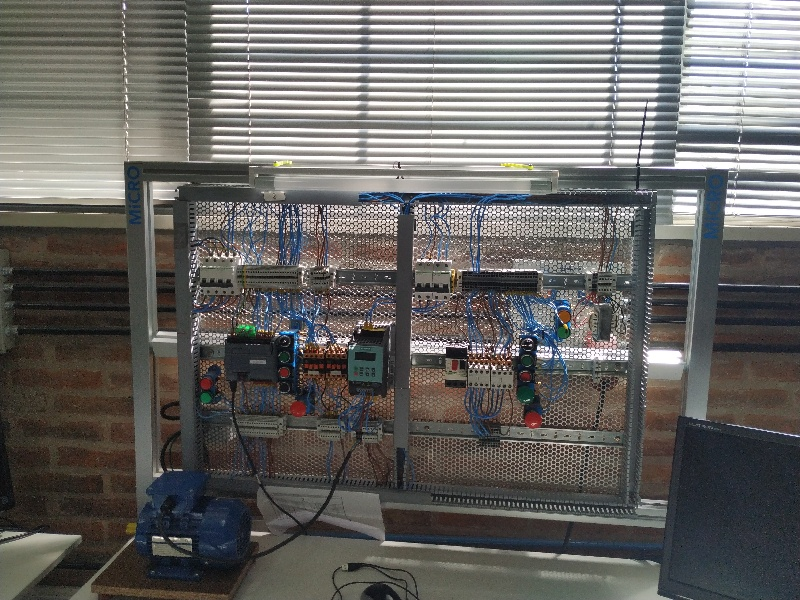Tablero 2: (184, 194, 642, 514)
